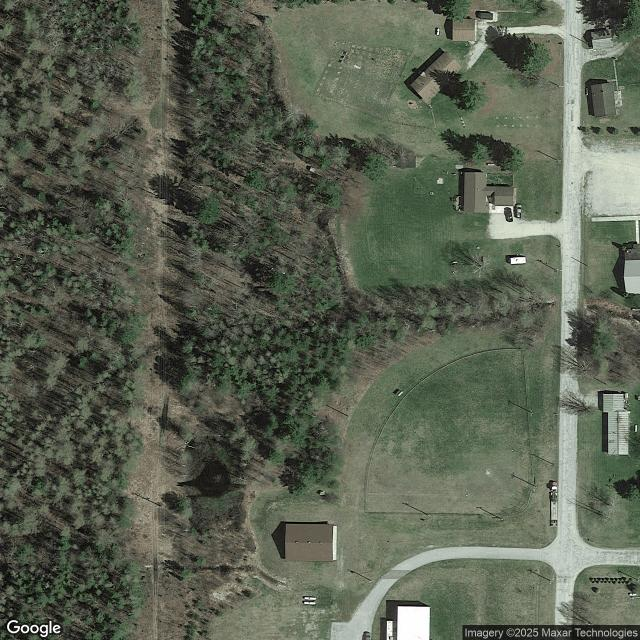Propane: (303, 601, 316, 605), (304, 596, 316, 600), (585, 87, 589, 96), (436, 28, 440, 36), (634, 425, 638, 433), (487, 163, 495, 166), (629, 593, 637, 596)
